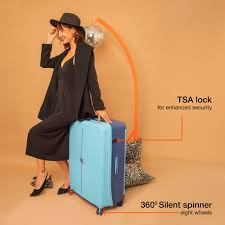suitcase: (63, 116, 128, 212)
